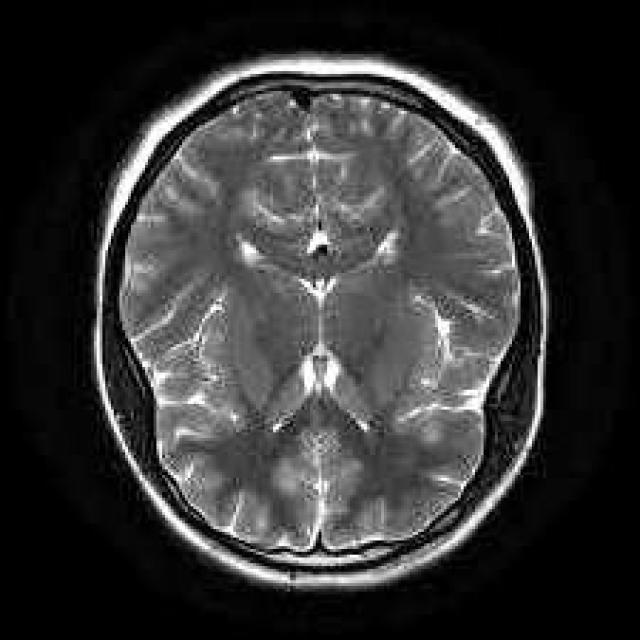notumor: (94, 57, 546, 586)
